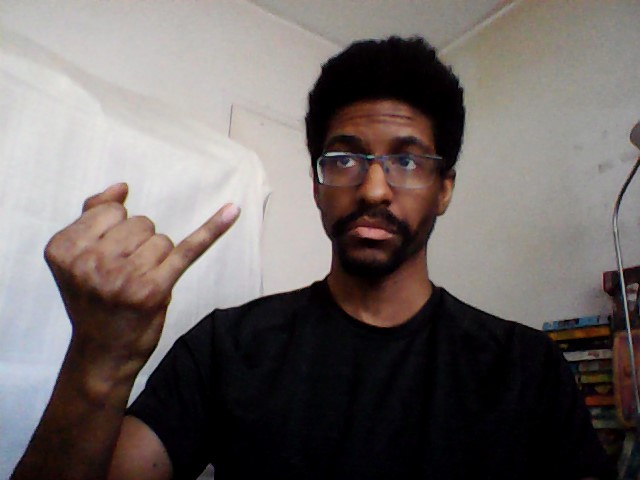j: (35, 177, 247, 358)
